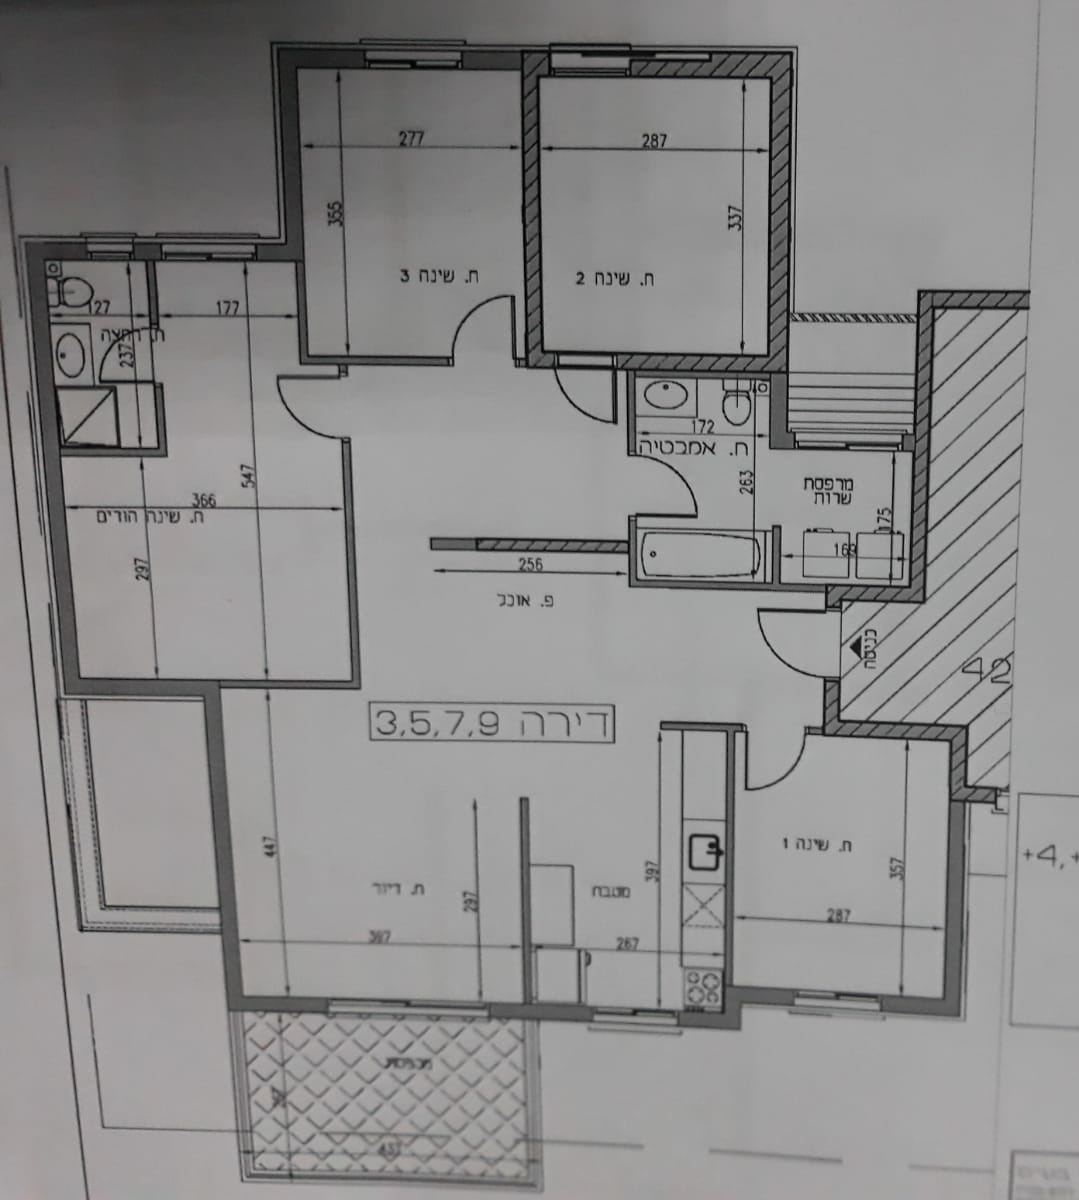door: (747, 596, 822, 704), (441, 280, 520, 354), (642, 448, 709, 530), (266, 364, 324, 448), (738, 745, 810, 800)
wall: (327, 464, 374, 695), (275, 36, 320, 246), (772, 32, 791, 368), (911, 271, 928, 627)
window: (322, 989, 502, 1032), (784, 971, 904, 1032), (352, 34, 479, 82), (584, 996, 684, 1036)
